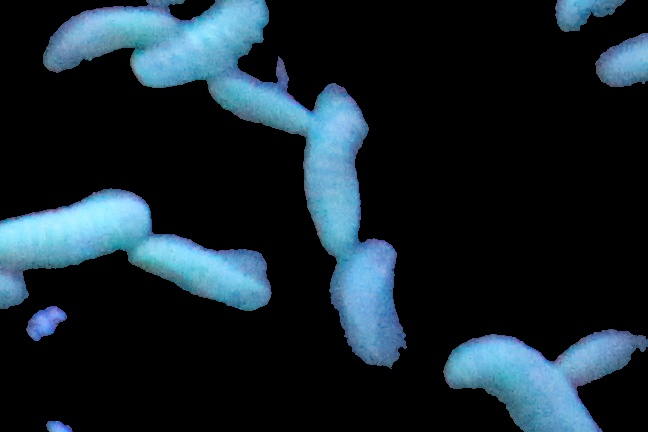larvae: (450, 330, 594, 432), (138, 1, 272, 90), (338, 248, 418, 392), (141, 224, 266, 313), (306, 87, 366, 248), (1, 204, 142, 260), (38, 9, 170, 65), (208, 68, 309, 132), (558, 315, 643, 389), (1, 262, 28, 316)
